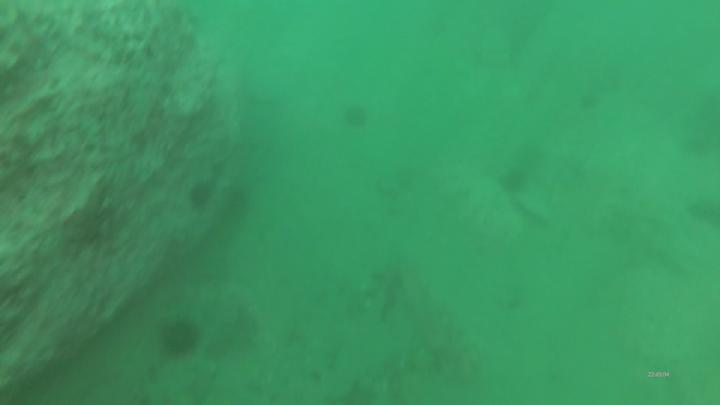echinus: (155, 312, 202, 362), (188, 178, 217, 214), (499, 164, 529, 197), (343, 102, 370, 131)
